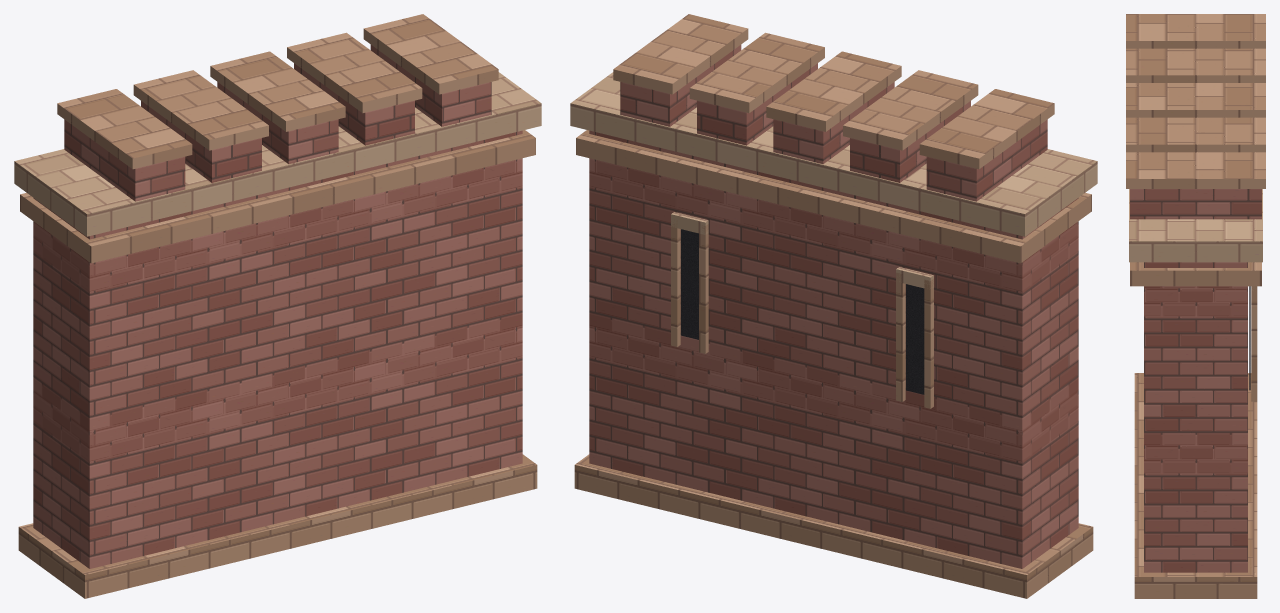
The model's file is Wall_Arrow_Slits_4m.obj.
3 views of the same model, side by side, from view 1: azimuth 30°, elevation 25°; view 2: azimuth 150°, elevation 25°; view 3: azimuth 270°, elevation 25° (orthographic). The views are drawn at different scales.
Visible parts, largest first — view 1: Brick_Rose, Stone_Sand, Stone_Light; view 2: Brick_Rose, Stone_Sand, Stone_Light, Iron_Black; view 3: Stone_Sand, Brick_Rose, Stone_Light, Iron_Black.
Part boxes in pixels (box(x1,y1,x2,y2)): Brick_Rose: box(33, 45, 522, 568); Stone_Sand: box(18, 14, 537, 598); Stone_Light: box(14, 72, 541, 236); Brick_Rose: box(589, 45, 1078, 568); Stone_Sand: box(574, 14, 1093, 598); Stone_Light: box(570, 72, 1097, 289); Iron_Black: box(681, 229, 924, 394); Stone_Sand: box(1126, 14, 1265, 598); Brick_Rose: box(1130, 189, 1261, 572); Stone_Light: box(1129, 189, 1262, 290); Iron_Black: box(1249, 286, 1250, 390).
Size of the model in its own units: 4.2 by 3.82 by 1.21.
Materials: 4 (4 with a texture image).
